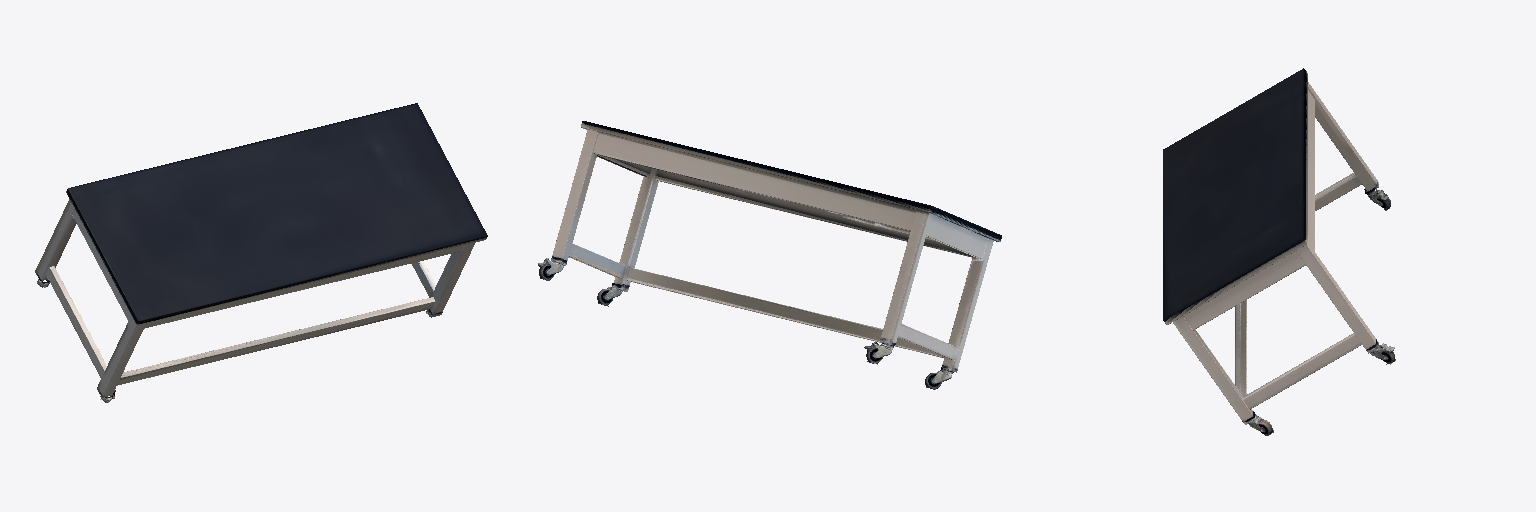
The picture shows the model from 3 angles: view 1: azimuth 30°, elevation 25°; view 2: azimuth 150°, elevation 25°; view 3: azimuth 270°, elevation 25°; orthographic projection.
Bounding box in the file's own units: 2.82 × 1.56 × 1.62.
Materials: 1 (1 with a texture image).